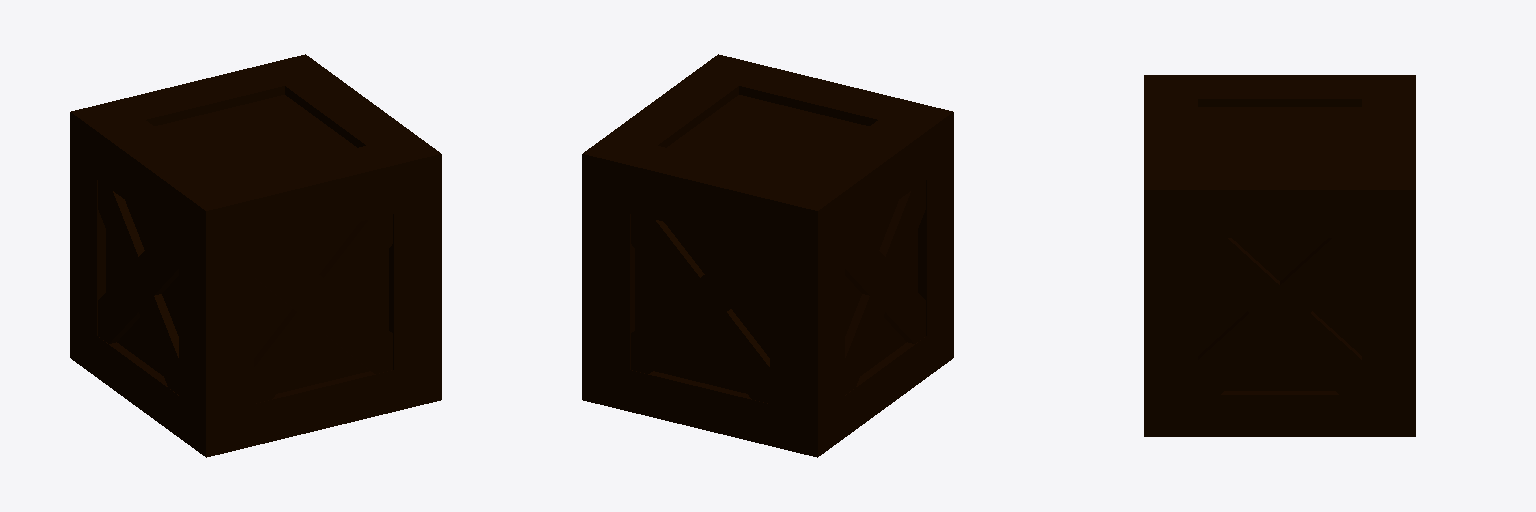
File: WoodenCrate_01.obj
The picture shows the model from 3 angles: view 1: azimuth 30°, elevation 25°; view 2: azimuth 150°, elevation 25°; view 3: azimuth 270°, elevation 25°; orthographic projection.
Parts seen in each view (by area): view 1: WoodCrate_01_Cube.007; view 2: WoodCrate_01_Cube.007; view 3: WoodCrate_01_Cube.007.
Part boxes in pixels (x1,y1,x2,y2): WoodCrate_01_Cube.007: (70, 54, 441, 457); WoodCrate_01_Cube.007: (582, 54, 953, 457); WoodCrate_01_Cube.007: (1144, 75, 1415, 436).
Bounding box in the file's own units: 1.19 × 1.19 × 1.19.